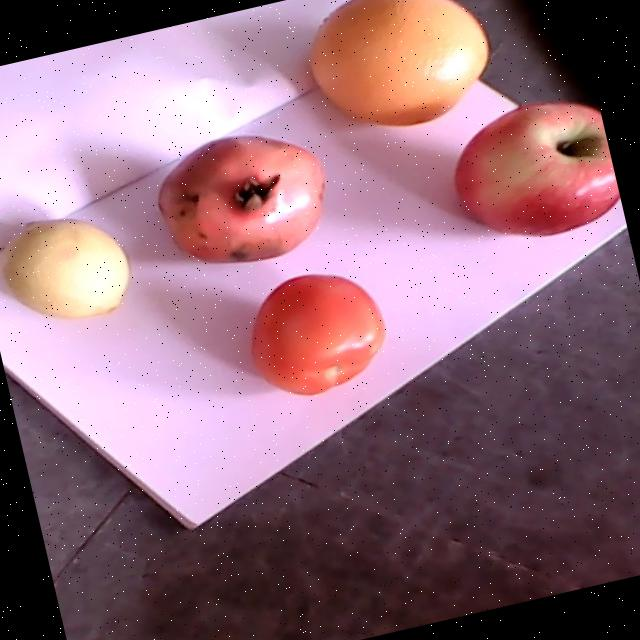apple: (455, 101, 619, 236)
lemon: (5, 220, 129, 319)
orange: (307, 0, 490, 126)
pomegranate: (157, 136, 323, 263)
tomato: (250, 275, 386, 394)
